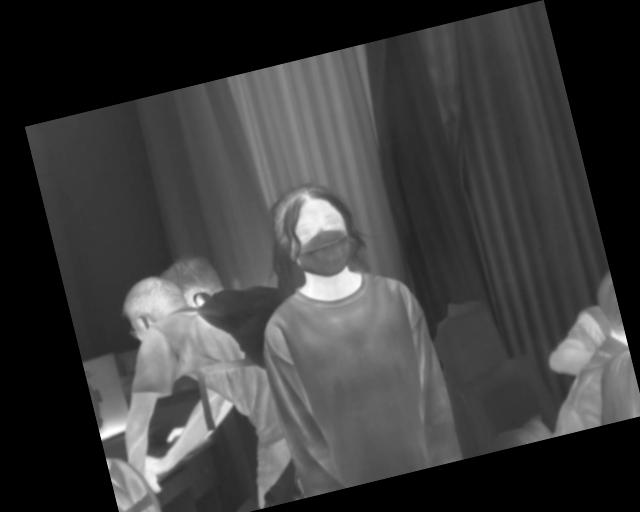face: (264, 175, 363, 287)
